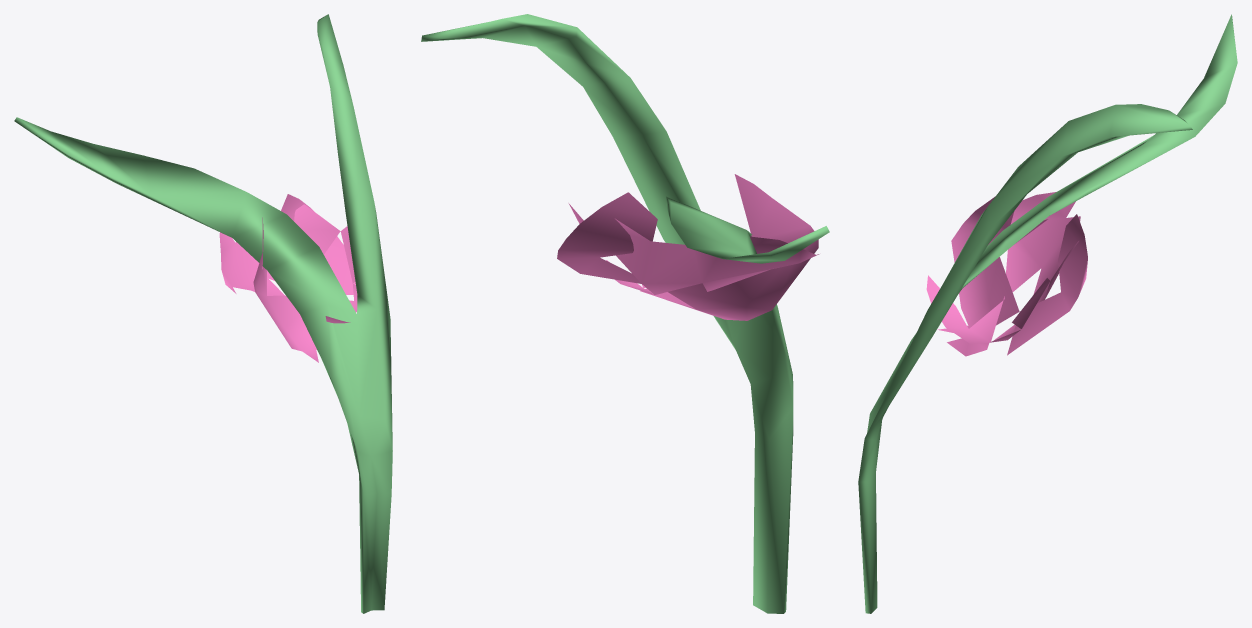
File: flower_04_sunflower_detach.glb
3 views of the same model, side by side, from view 1: azimuth 30°, elevation 25°; view 2: azimuth 150°, elevation 25°; view 3: azimuth 270°, elevation 25° (orthographic). The views are drawn at different scales.
Visible parts, largest first — view 1: Piece_Leaf, Piece_Petal_A, Piece_Petal_B; view 2: Piece_Leaf, Piece_Petal_B, Piece_Petal_A; view 3: Piece_Leaf, Piece_Petal_B, Piece_Petal_A.
Boxes of the visible parts, x1=… form: Piece_Leaf: x1=14, y1=14, x2=392, y2=613; Piece_Petal_A: x1=219, y1=204, x2=357, y2=323; Piece_Petal_B: x1=253, y1=194, x2=355, y2=362; Piece_Leaf: x1=421, y1=14, x2=829, y2=613; Piece_Petal_B: x1=557, y1=174, x2=818, y2=320; Piece_Petal_A: x1=568, y1=203, x2=819, y2=294; Piece_Leaf: x1=858, y1=14, x2=1237, y2=613; Piece_Petal_B: x1=937, y1=196, x2=1087, y2=356; Piece_Petal_A: x1=926, y1=192, x2=1080, y2=343.
Size of the model in its own units: 0.4932 by 0.7551 by 0.4808.
